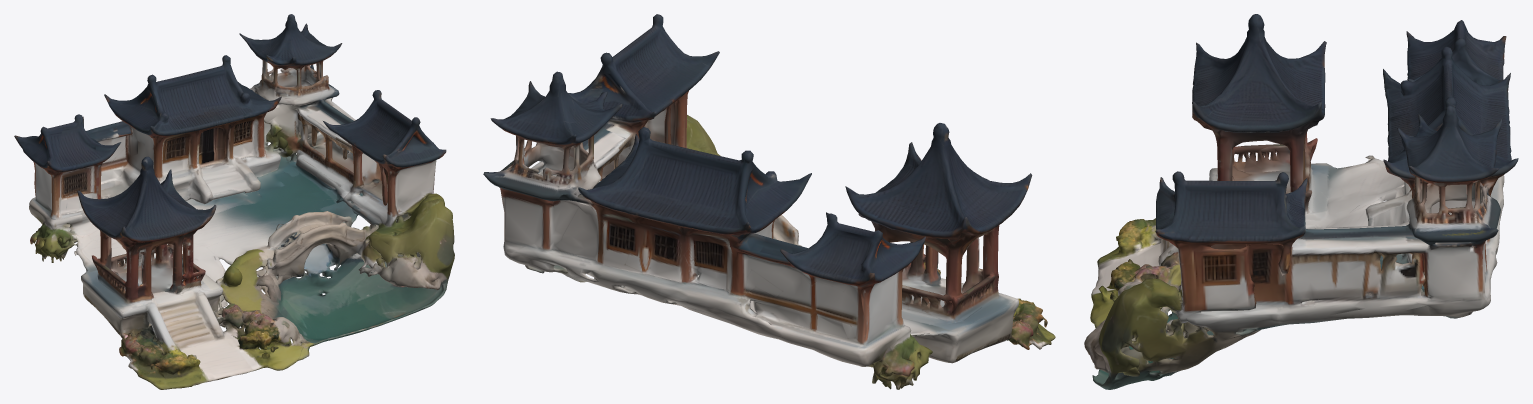
3 renders of one model, left to right at view 1: azimuth 30°, elevation 25°; view 2: azimuth 150°, elevation 25°; view 3: azimuth 270°, elevation 25°, orthographic. The views are drawn at different scales.
Visible parts, largest first — view 1: material.001; view 2: material.001; view 3: material.001.
Part boxes in pixels (x1,y1,x2,y2): material.001: (14, 14, 454, 389); material.001: (483, 14, 1055, 389); material.001: (1084, 14, 1518, 389).
Size of the model in its own units: 0.89 by 0.619 by 0.7915.
Materials: 1 (1 with a texture image).
